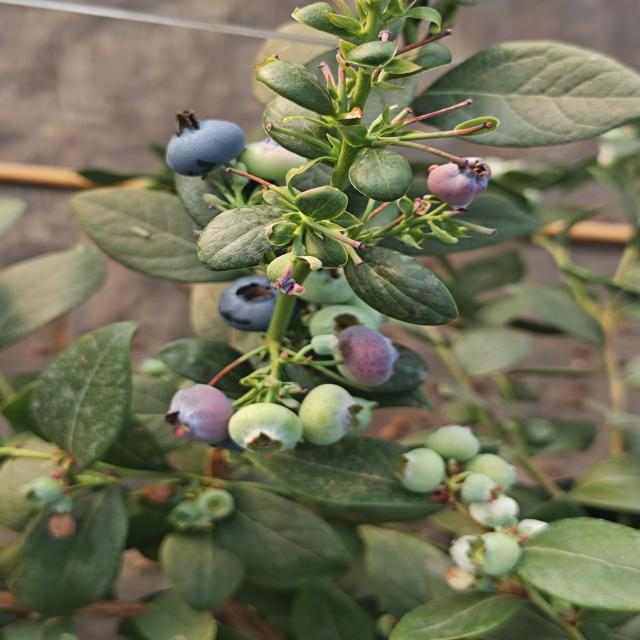ripe: (166, 109, 243, 176), (218, 270, 275, 330)
